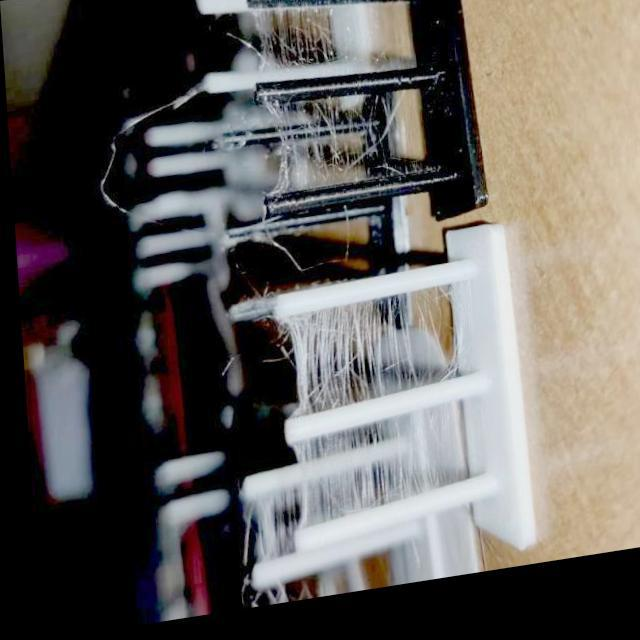stringing: (292, 290, 470, 420), (294, 412, 450, 530), (258, 91, 402, 208), (254, 9, 352, 106)
